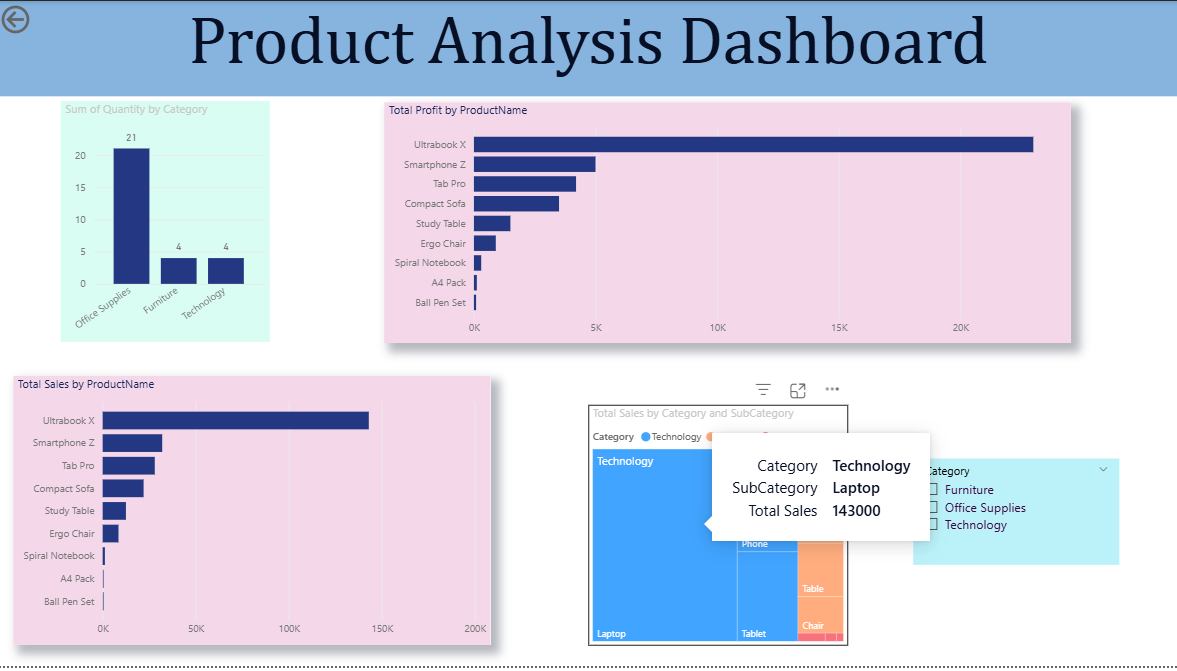

This screenshot's page, from the dashboard's own definition file:
{"tool":"powerbi","page":{"name":"Page 2","canvas":[1280,720],"ordinal":1},"visuals":[{"type":"textbox","box":[0,0,1280.3,102.9],"z":0},{"type":"clusteredBarChart","fields":{"Category":["retail_sales_data.ProductName"],"Y":["retail_sales_data.Total Sales"]},"box":[17.6,406,517,291],"z":1000},{"type":"treemap","fields":{"Group":["retail_sales_data.Category"],"Details":["retail_sales_data.SubCategory"],"Values":["retail_sales_data.Total Sales"]},"box":[640.1,437.1,281.5,261.2],"z":2000},{"type":"clusteredColumnChart","fields":{"Category":["retail_sales_data.Category"],"Y":["Sum(retail_sales_data.Quantity)"]},"box":[69,108.3,226,261.2],"z":3000},{"type":"barChart","fields":{"Category":["retail_sales_data.ProductName"],"Y":["retail_sales_data.Total Profit"]},"box":[419.5,109.6,743,261.2],"z":4000},{"type":"slicer","fields":{"Values":["retail_sales_data.Category"]},"box":[992,495.3,223.3,115],"z":5000},{"type":"actionButton","box":[0,0,100,40],"z":6000}]}

Visuals, with their boxes on the page's 1280x720 design canvas (x1, y1, x2, y2). These are canvas units, not pixel positions in the 1177x671 screenshot, which may show the page scaled, cropped or inside an application window:
textbox: bbox=(0, 0, 1280, 103)
clusteredBarChart - retail_sales_data.ProductName x retail_sales_data.Total Sales: bbox=(18, 406, 535, 697)
treemap - retail_sales_data.Category x retail_sales_data.SubCategory: bbox=(640, 437, 922, 698)
clusteredColumnChart - retail_sales_data.Category x Sum(retail_sales_data.Quantity): bbox=(69, 108, 295, 370)
barChart - retail_sales_data.ProductName x retail_sales_data.Total Profit: bbox=(420, 110, 1162, 371)
slicer - retail_sales_data.Category: bbox=(992, 495, 1215, 610)
actionButton: bbox=(0, 0, 100, 40)
